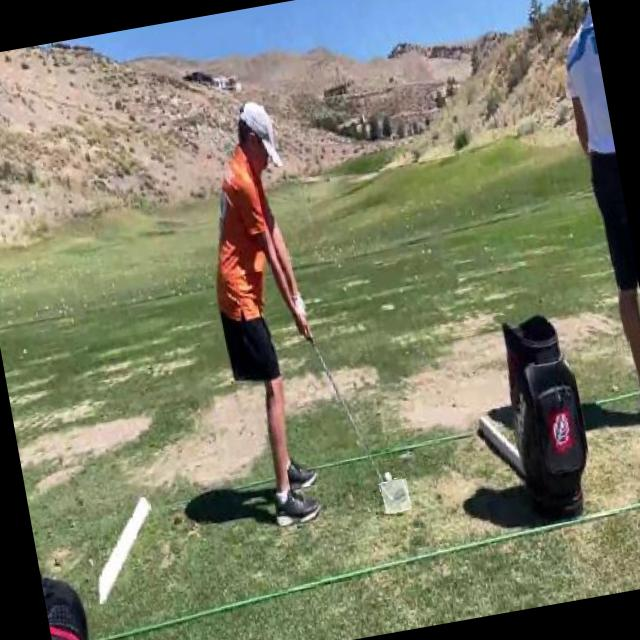club head: (380, 478, 411, 514)
